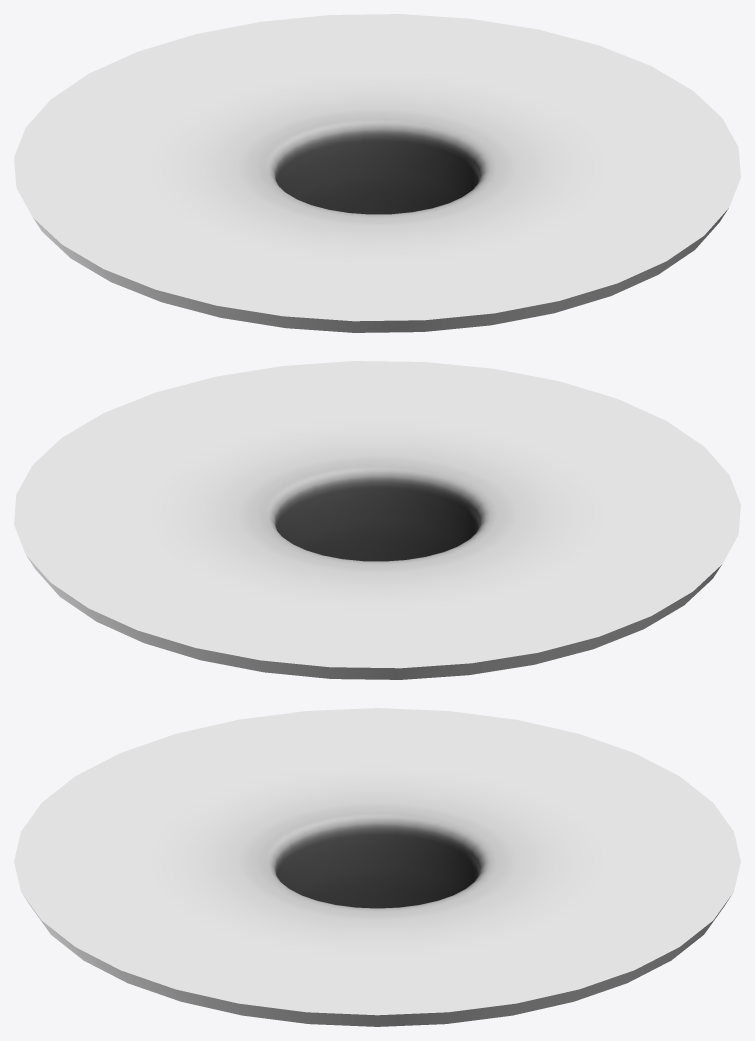
Rendered from hole2.fbx.
The picture shows the model from 3 angles, top to bottom: view 1: azimuth 30°, elevation 25°; view 2: azimuth 150°, elevation 25°; view 3: azimuth 270°, elevation 25°; orthographic projection.
Visible parts, largest first — view 1: Hole2; view 2: Hole2; view 3: Hole2.
Part boxes in pixels (left/top/right/bottom): Hole2: left=14, top=14, right=740, bottom=332; Hole2: left=14, top=361, right=740, bottom=679; Hole2: left=14, top=708, right=740, bottom=1026.
Bounding box in the file's own units: 7.05 × 1.17 × 7.05.
